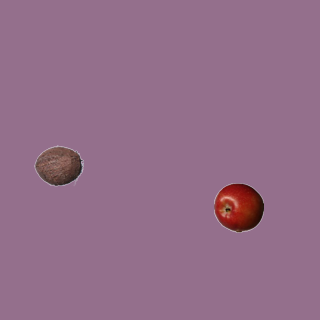Apple Braeburn: (213, 182, 263, 232)
Cocos: (33, 140, 83, 190)
